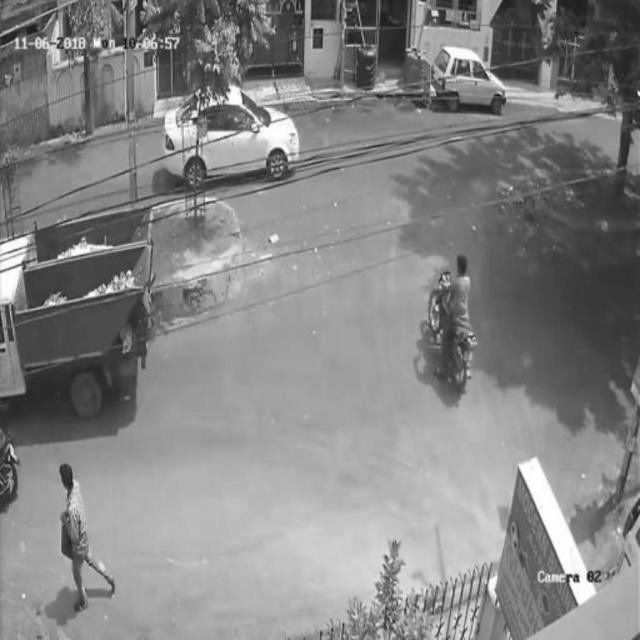person: (60, 459, 117, 606)
vehicle: (0, 208, 148, 420), (166, 78, 300, 184), (425, 258, 479, 389), (434, 46, 507, 116)
